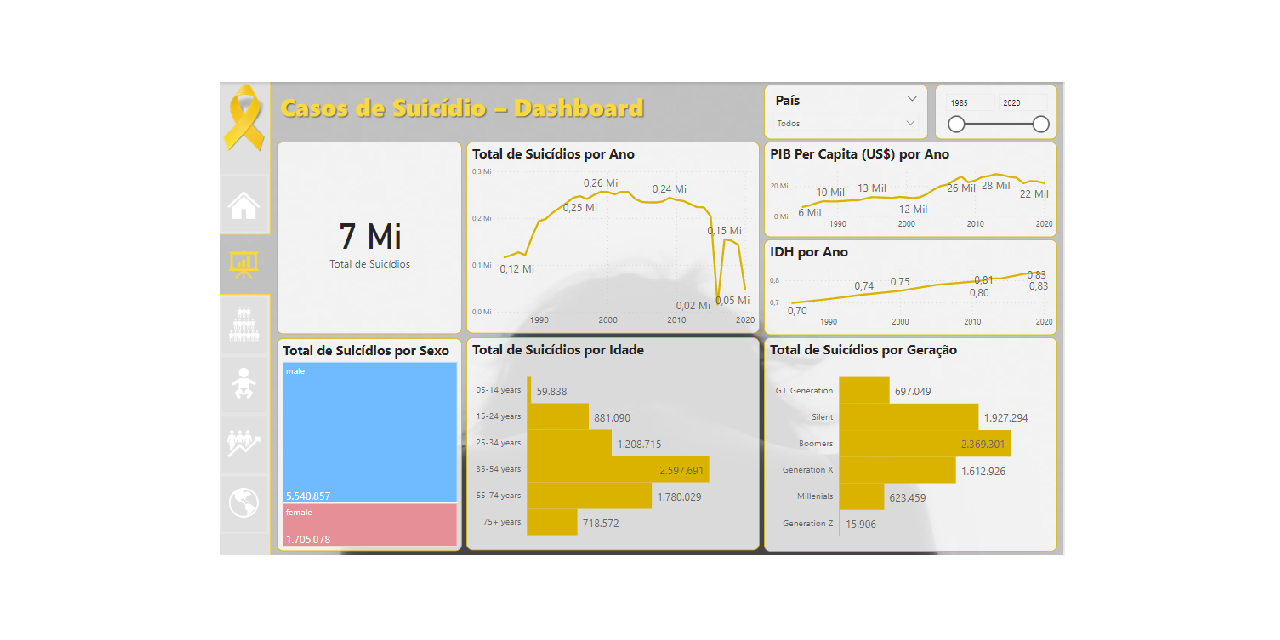

The page's visual inventory and layout, read from the dashboard file:
{"tool":"powerbi","page":{"name":"DashBoard","canvas":[1280,720],"ordinal":1},"visuals":[{"type":"clusteredBarChart","fields":{"Category":["master.age"],"Y":["Sum(master.suicides_no)"]},"box":[374.2,386.9,445,323.1],"z":0},{"type":"clusteredBarChart","title":"Total de Suicídios por Geração","fields":{"Category":["master.generation"],"Y":["Sum(master.suicides_no)"]},"box":[826.3,386.9,445,324.6],"z":1000},{"type":"treemap","fields":{"Group":["master.sex"],"Values":["Sum(master.suicides_no)"]},"box":[86.5,388.3,280.6,323.1],"z":2000},{"type":"card","fields":{"Values":["Sum(master.suicides_no)"]},"box":[86.5,90.7,280.6,292],"z":3000},{"type":"lineChart","fields":{"Y":["Sum(master.suicides_no)"],"Category":["master.year"]},"box":[374.2,90.7,445,290.6],"z":4000},{"type":"slicer","fields":{"Values":["master.country - tratada"]},"box":[825.8,3.9,249,82.6],"z":5000},{"type":"lineChart","title":"IDH por Ano","fields":{"Y":["Avg(master.HDI for year)"],"Category":["master.year"]},"box":[826.3,238.1,445,144.6],"z":6000},{"type":"lineChart","title":"PIB Per Capita (US$) por Ano","fields":{"Y":["Avg(master.gdp_per_capita ($))"],"Category":["master.year"]},"box":[826.3,90.7,445,144.6],"z":7000},{"type":"slicer","fields":{"Values":["master.year"]},"box":[1085.2,3.9,185.8,82.6],"z":8000},{"type":"actionButton","box":[0,139.4,74.8,90.3],"z":9000},{"type":"actionButton","box":[0,323.9,74.8,90.3],"z":10000},{"type":"actionButton","box":[0,413.9,75.1,90],"z":11000},{"type":"actionButton","box":[0,504.6,75.1,90],"z":12000},{"type":"actionButton","box":[0,595.3,75.1,90],"z":13000}]}

Visuals, with their boxes on the page's 1280x720 design canvas (x1, y1, x2, y2). These are canvas units, not pixel positions in the 1280x640 screenshot, which may show the page scaled, cropped or inside an application window:
clusteredBarChart - master.age x Sum(master.suicides_no): l=374, t=387, r=819, b=710
"Total de Suicídios por Geração" clusteredBarChart: l=826, t=387, r=1271, b=712
treemap - master.sex x Sum(master.suicides_no): l=86, t=388, r=367, b=711
card - Sum(master.suicides_no): l=86, t=91, r=367, b=383
lineChart - Sum(master.suicides_no) x master.year: l=374, t=91, r=819, b=381
slicer - master.country - tratada: l=826, t=4, r=1075, b=86
"IDH por Ano" lineChart: l=826, t=238, r=1271, b=383
"PIB Per Capita (US$) por Ano" lineChart: l=826, t=91, r=1271, b=235
slicer - master.year: l=1085, t=4, r=1271, b=86
actionButton: l=0, t=139, r=75, b=230
actionButton: l=0, t=324, r=75, b=414
actionButton: l=0, t=414, r=75, b=504
actionButton: l=0, t=505, r=75, b=595
actionButton: l=0, t=595, r=75, b=685
